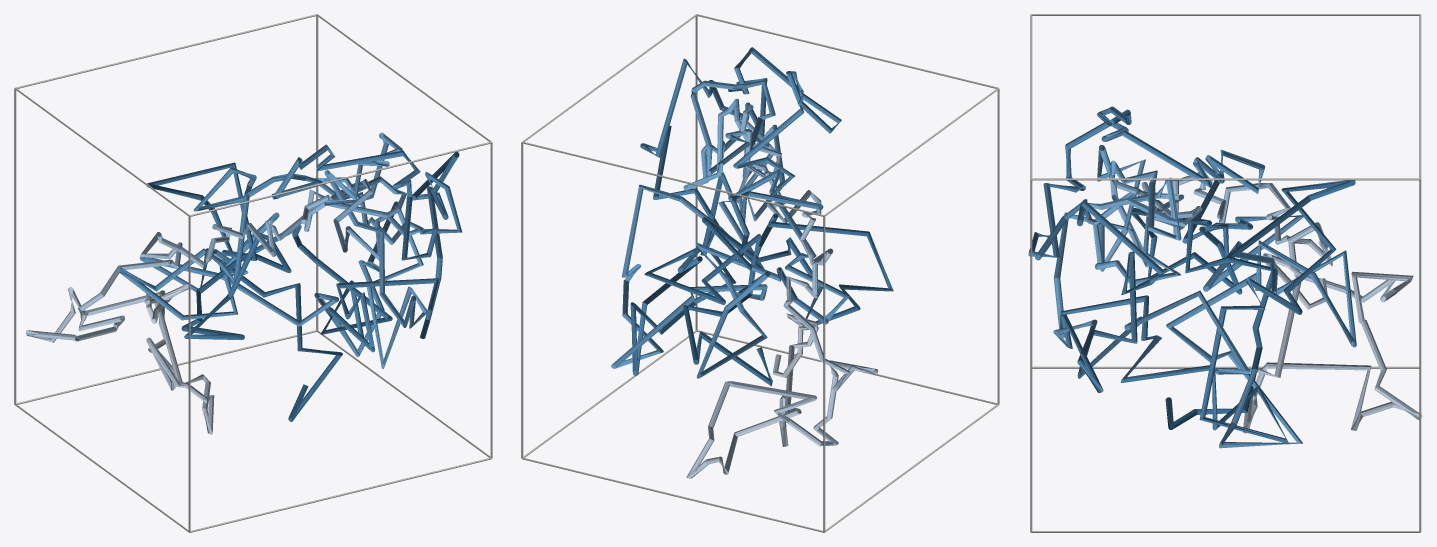
3 renders of one model, left to right at view 1: azimuth 30°, elevation 25°; view 2: azimuth 150°, elevation 25°; view 3: azimuth 270°, elevation 25°, orthographic. The views are drawn at different scales.
Parts seen in each view (by area): view 1: geometry_0, geometry_1; view 2: geometry_0, geometry_1; view 3: geometry_0, geometry_1.
Boxes of the visible parts, bbox=[...] form: geometry_0: bbox=[26, 132, 462, 434]; geometry_1: bbox=[14, 14, 492, 532]; geometry_0: bbox=[611, 47, 893, 478]; geometry_1: bbox=[521, 14, 999, 532]; geometry_0: bbox=[1028, 106, 1422, 448]; geometry_1: bbox=[1030, 14, 1421, 532].
Size of the model in its own units: 0.3041 by 0.3032 by 0.3041.
